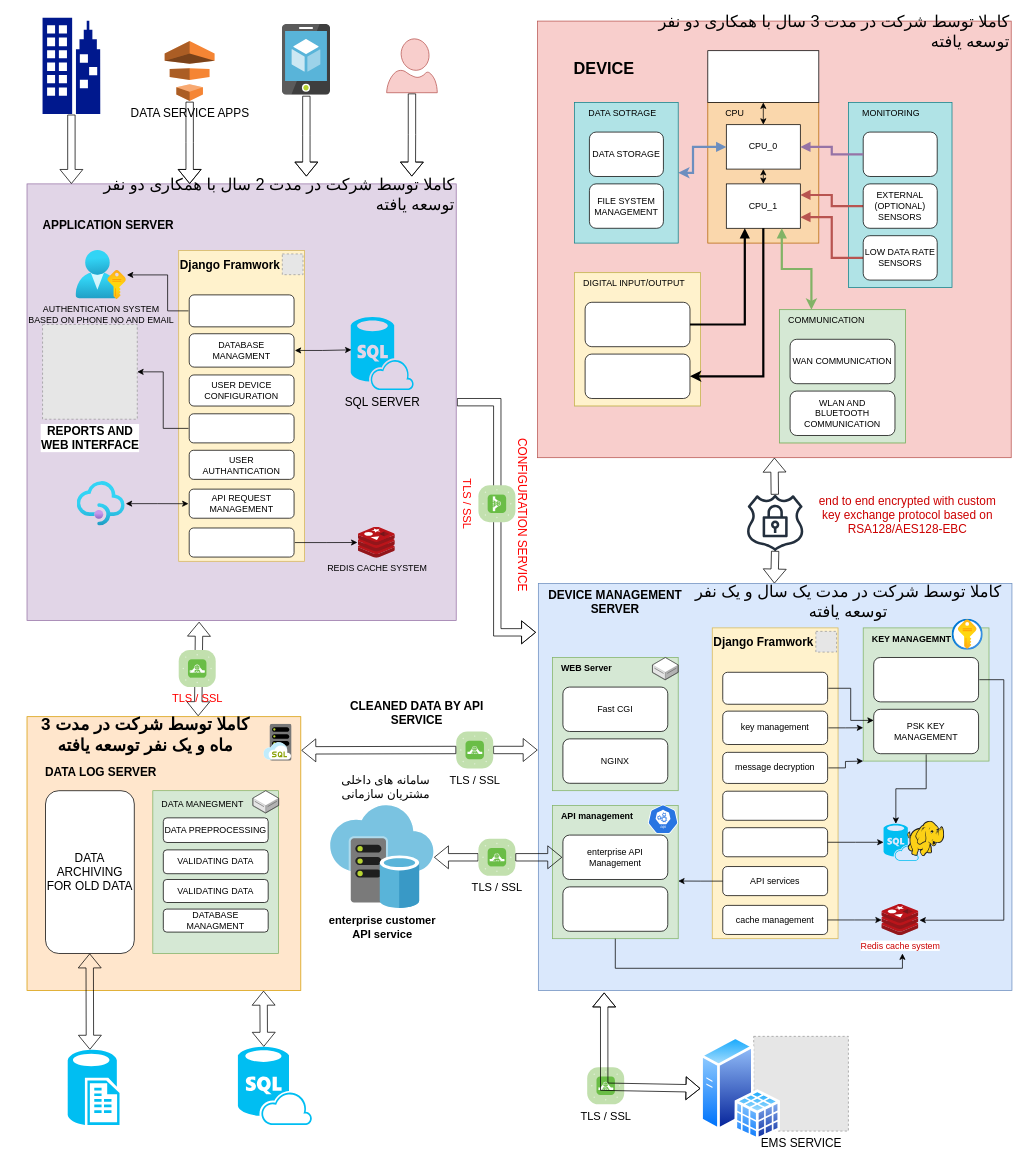
This 1025x1163 diagram has some shape labels left out. Grey dashed boxes stand in for pictures. Each missing label, with the centre of its shape:
"3 DIGITAL INPUT" belongs at point (637, 324).
"3 DIGITAL OUTPUT" belongs at point (637, 375).
"authentication" belongs at point (775, 688).
"CACHE MANAGEMNT" belongs at point (241, 542).
"CLOUD API SERVICE" belongs at point (101, 503).
"Data Service" belongs at point (615, 908).
"database managemt" belongs at point (775, 842).
"DATABASE SERVER ON CLOUD" belongs at point (275, 1085).
"device management" belongs at point (775, 805).
"ENTERPRISE USER" belongs at point (71, 65).
"EXTERNAL FLASH 16 MB" belongs at point (763, 76).
"HIGH DATA RATE SENSORS" belongs at point (899, 153).
"MOBILE APP" belongs at point (306, 59).
"NOSQL AND FILING SYSTEM" belongs at point (93, 1087).
"PostgreSQL" belongs at point (900, 841).
"SESSION KEY GENERATOR" belongs at point (926, 679).
"UI AND REPORT MANGEMNET" belongs at point (241, 428).
"USER" belongs at point (411, 65).
"USER MANAGMENT" belongs at point (241, 310).
